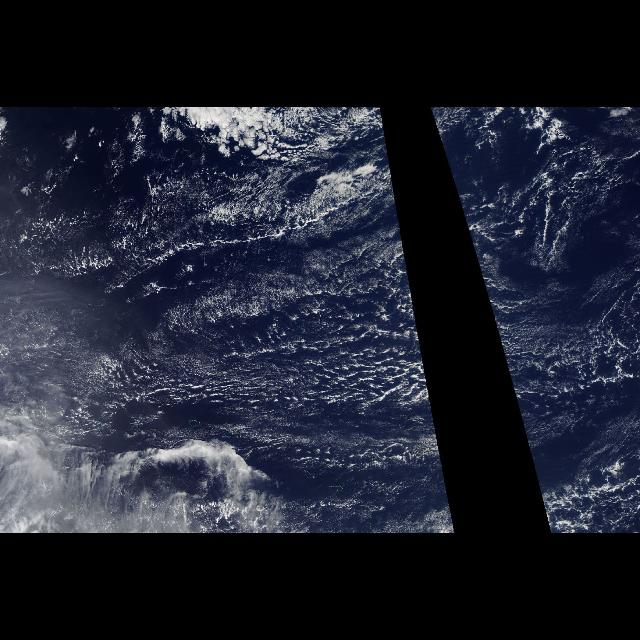Gravel: (116, 296, 418, 458)
Sugar: (13, 264, 437, 438), (486, 292, 634, 431), (468, 146, 616, 284)
